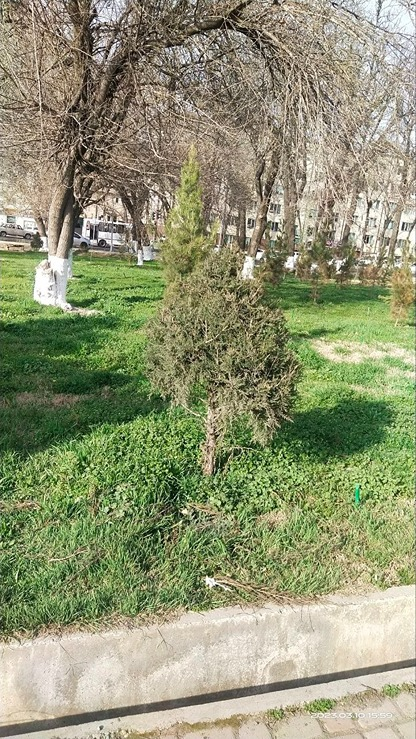tree: (0, 0, 317, 303), (147, 255, 322, 489), (153, 152, 215, 264)
